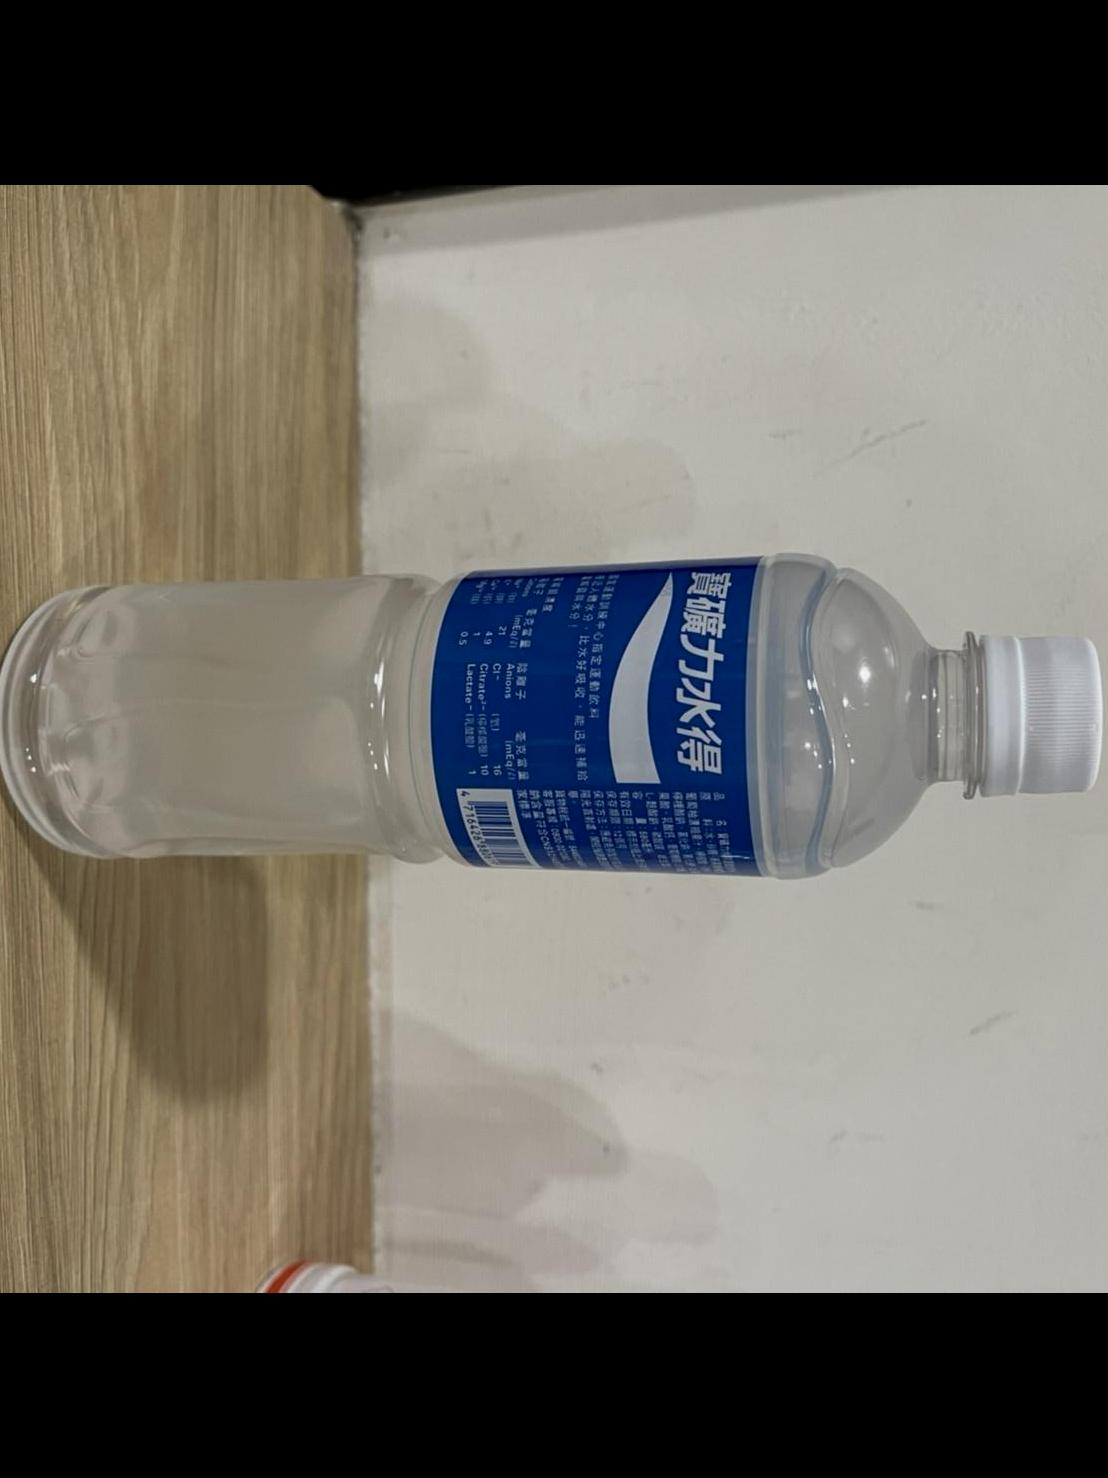bottle: (0, 526, 1108, 902)
